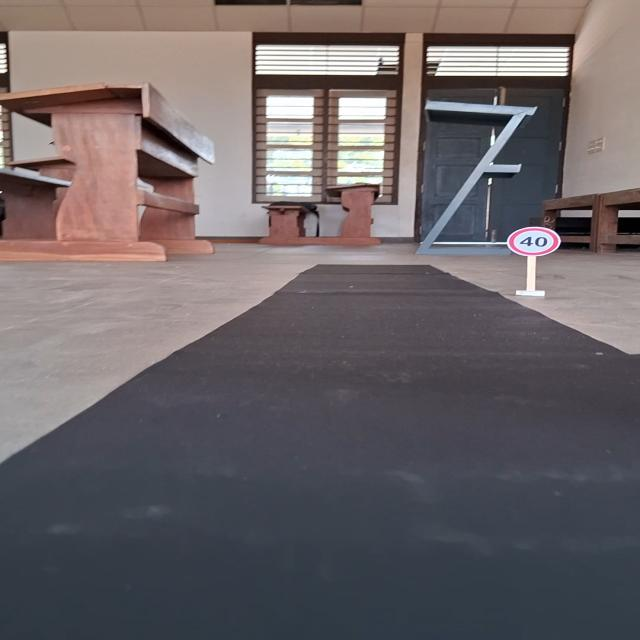Speed40: (506, 225, 563, 258)
